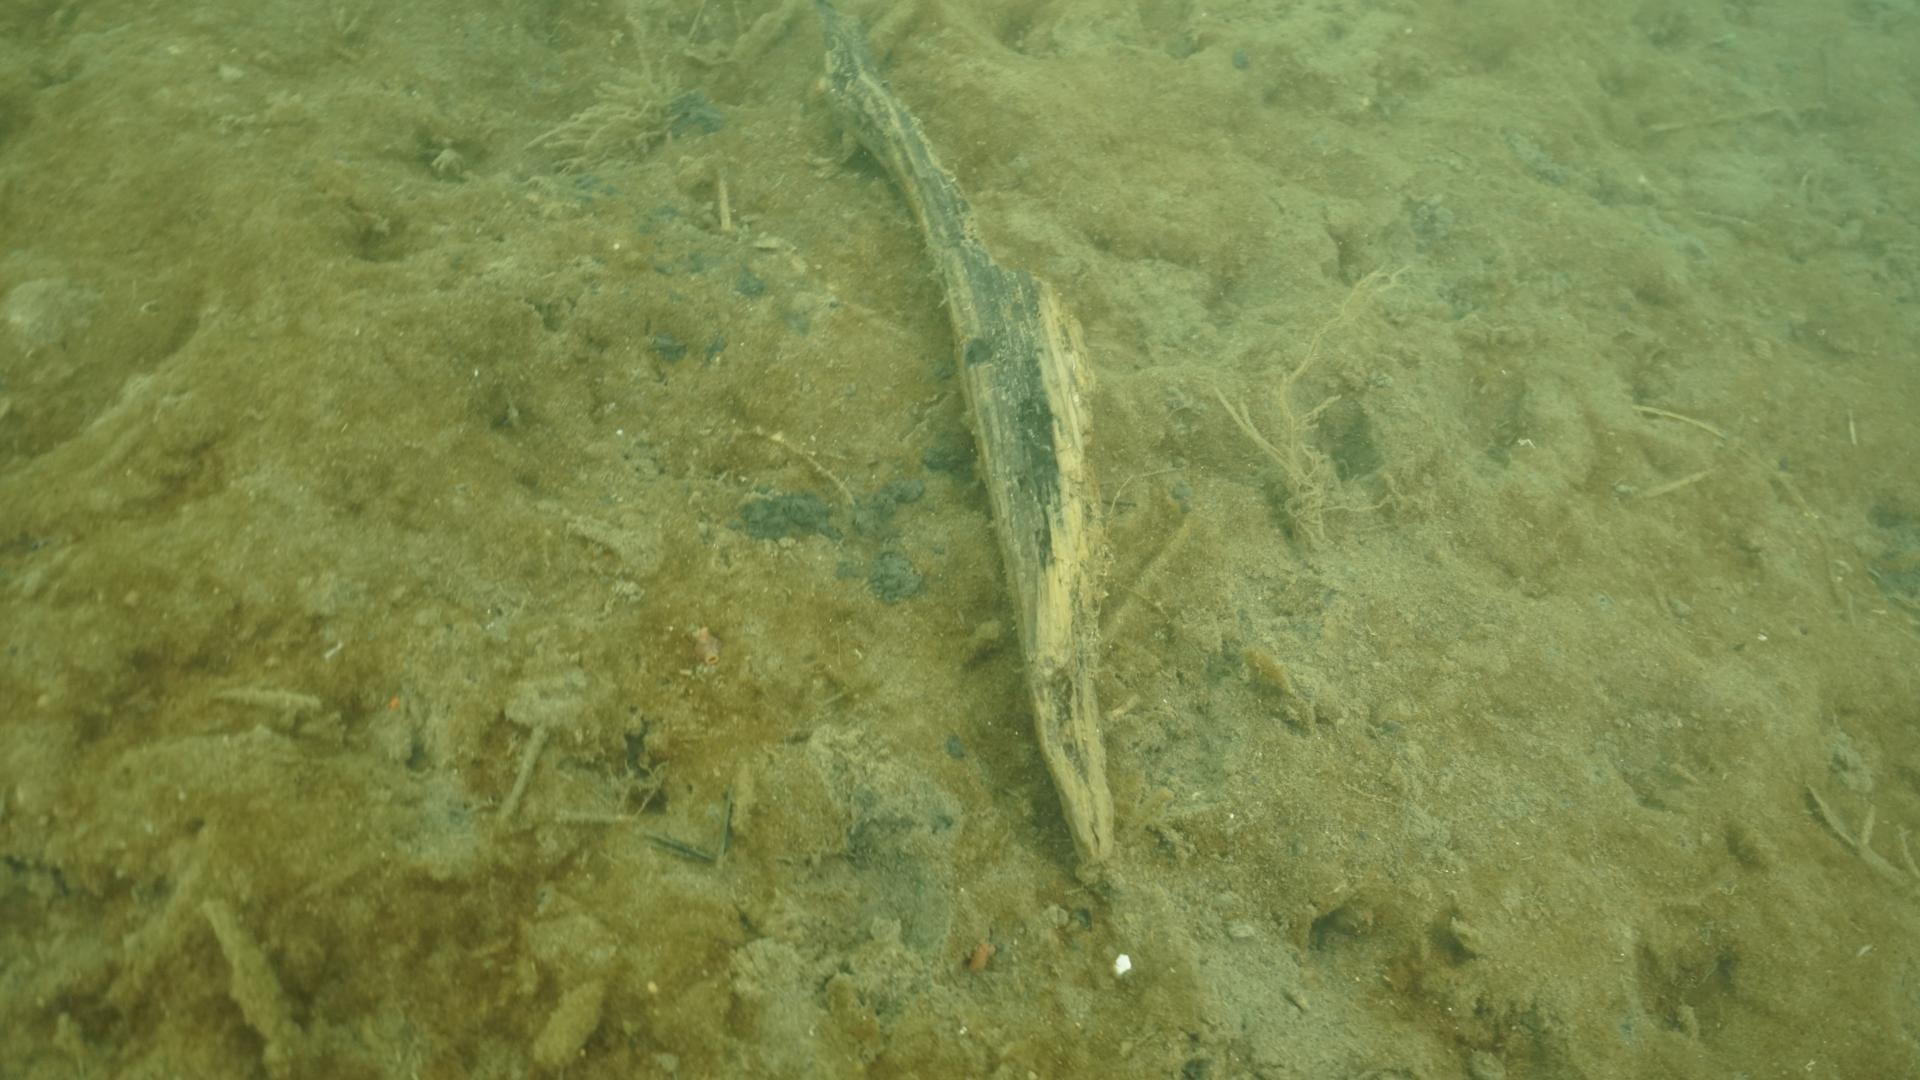wood: (811, 0, 1118, 868)
